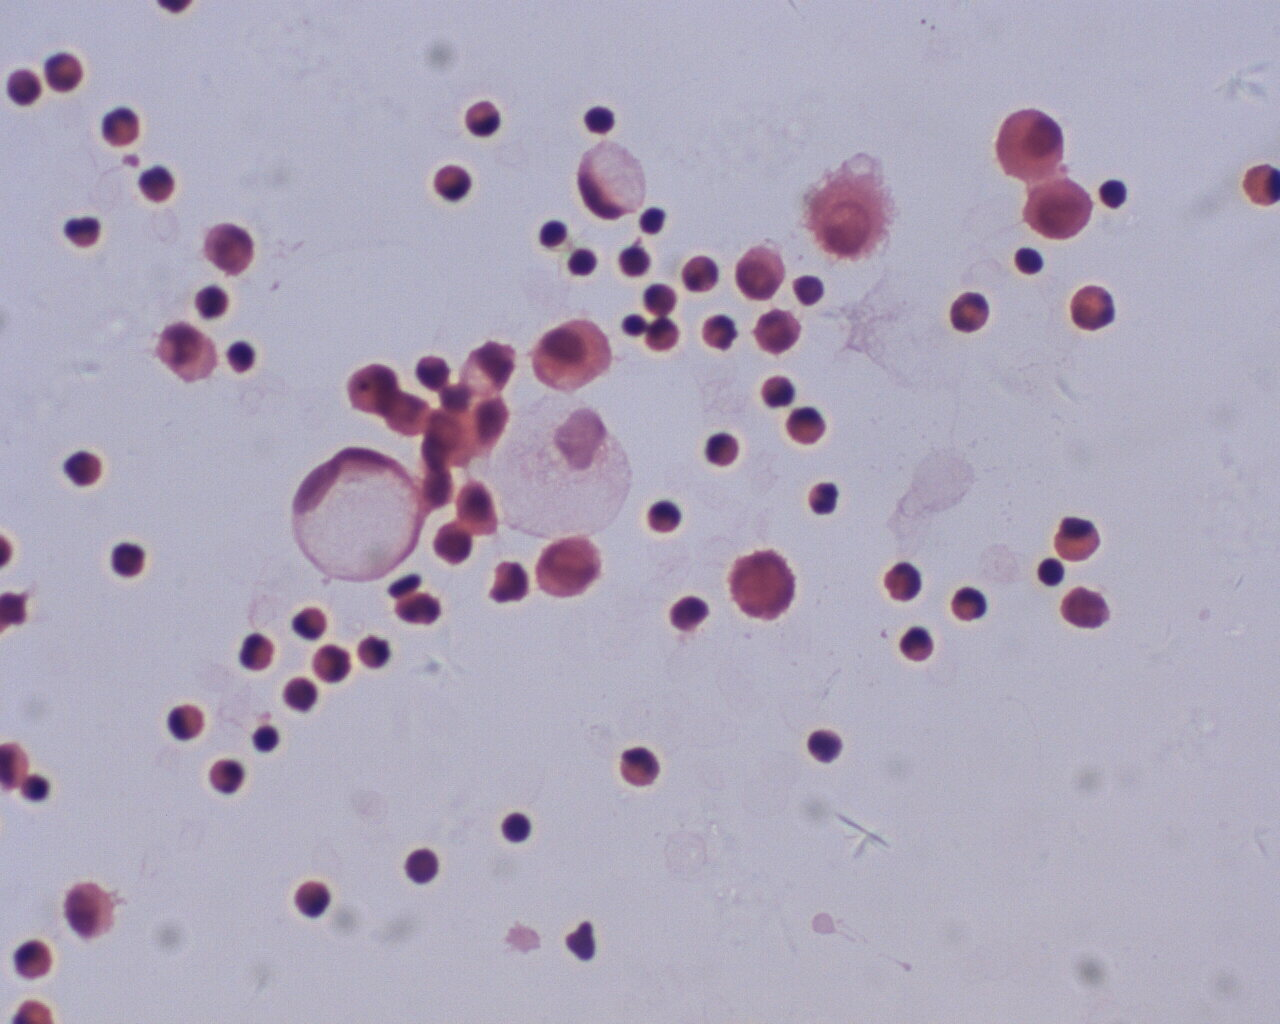ab: (531, 536, 608, 602), (1020, 172, 1092, 241)
histo: (292, 444, 420, 581), (576, 142, 642, 220), (103, 108, 139, 148), (225, 342, 255, 375)
lymph: (806, 723, 846, 764), (65, 450, 103, 486), (1011, 245, 1046, 276), (1099, 176, 1128, 212), (502, 810, 532, 844), (581, 103, 618, 132), (540, 216, 572, 249), (637, 206, 670, 237), (1035, 558, 1068, 586)
meso: (532, 319, 614, 393), (999, 109, 1066, 182)
neutro: (618, 744, 662, 789), (310, 645, 354, 686), (206, 759, 246, 796), (954, 293, 991, 331), (237, 634, 276, 671), (432, 164, 470, 201), (901, 626, 936, 666), (166, 706, 206, 742), (885, 562, 918, 604), (705, 430, 740, 470), (466, 100, 502, 136), (647, 498, 683, 533), (950, 586, 985, 620)
